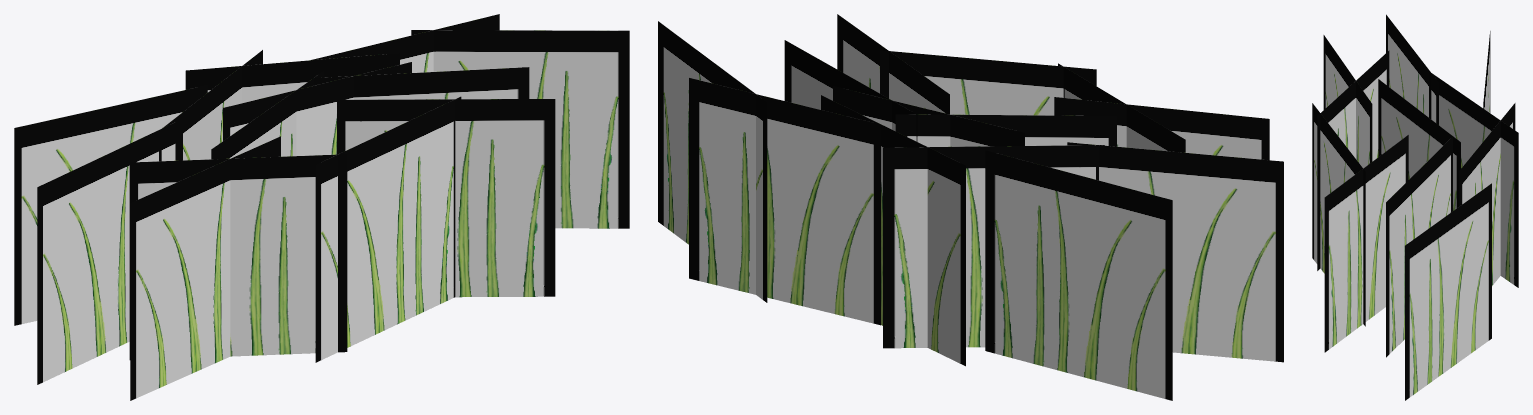
Rendered from Grass03_mesh.fbx.
3 renders of one model, left to right at view 1: azimuth 30°, elevation 25°; view 2: azimuth 150°, elevation 25°; view 3: azimuth 270°, elevation 25°, orthographic. The views are drawn at different scales.
Parts seen in each view (by area): view 1: Grass03_mesh; view 2: Grass03_mesh; view 3: Grass03_mesh.
Boxes of the visible parts, x1,y1,x2,y2 form: Grass03_mesh: [14, 14, 629, 400]; Grass03_mesh: [658, 14, 1283, 400]; Grass03_mesh: [1312, 14, 1518, 400].
Bounding box in the file's own units: 3.2 × 1 × 1.2.
1 material, 1 textured.
